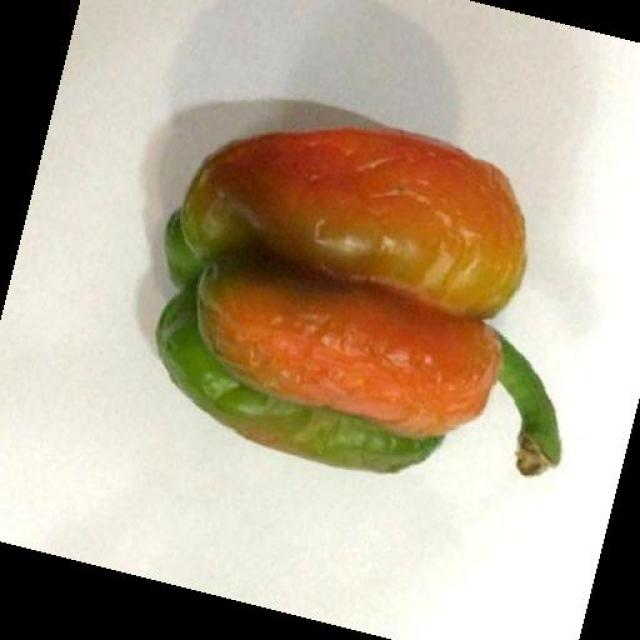Stale_Capsicum: (147, 125, 544, 491)
